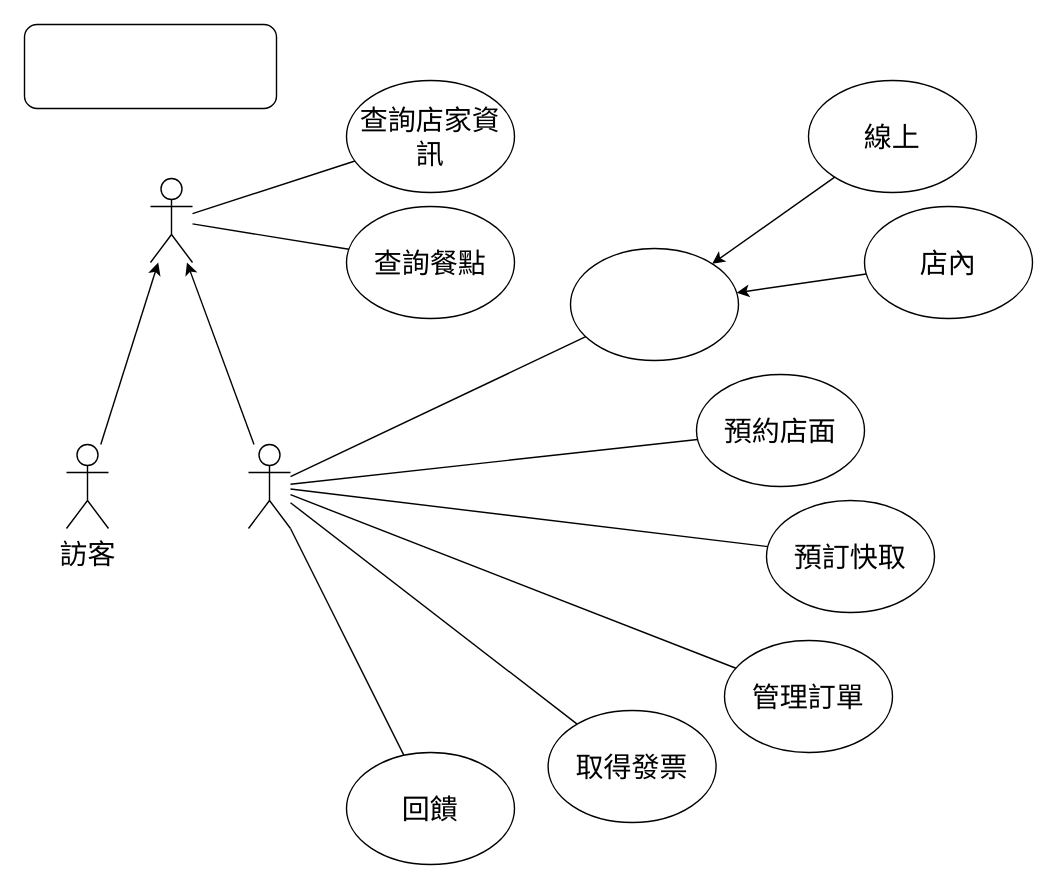
Image size: 1057x889. Some labels were removed from this diagram. Here are the shapes that lost their labels. From the top down, the box of each, then its label:
(23, 23, 276, 108): 顧客使用案例圖
(149, 177, 192, 262): 顧客
(569, 247, 738, 360): 付款
(247, 443, 290, 528): 會員
